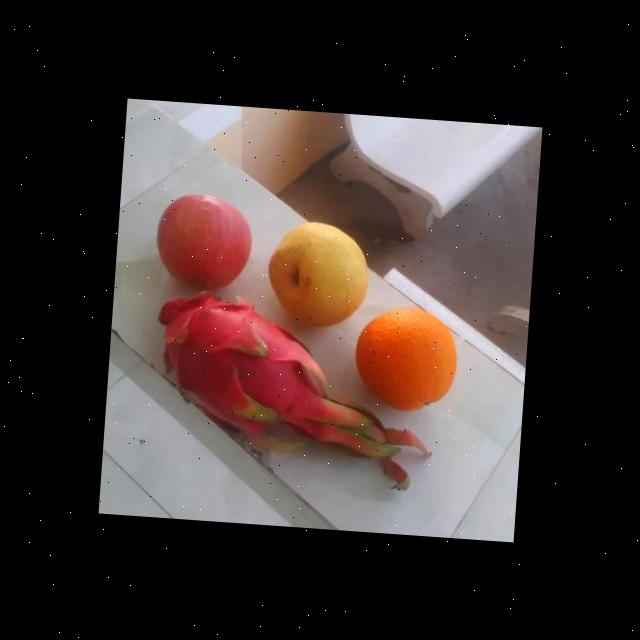apple: (150, 191, 254, 290)
orange: (348, 304, 464, 416)
pear: (258, 214, 378, 332)
pitaya: (149, 290, 319, 430)
